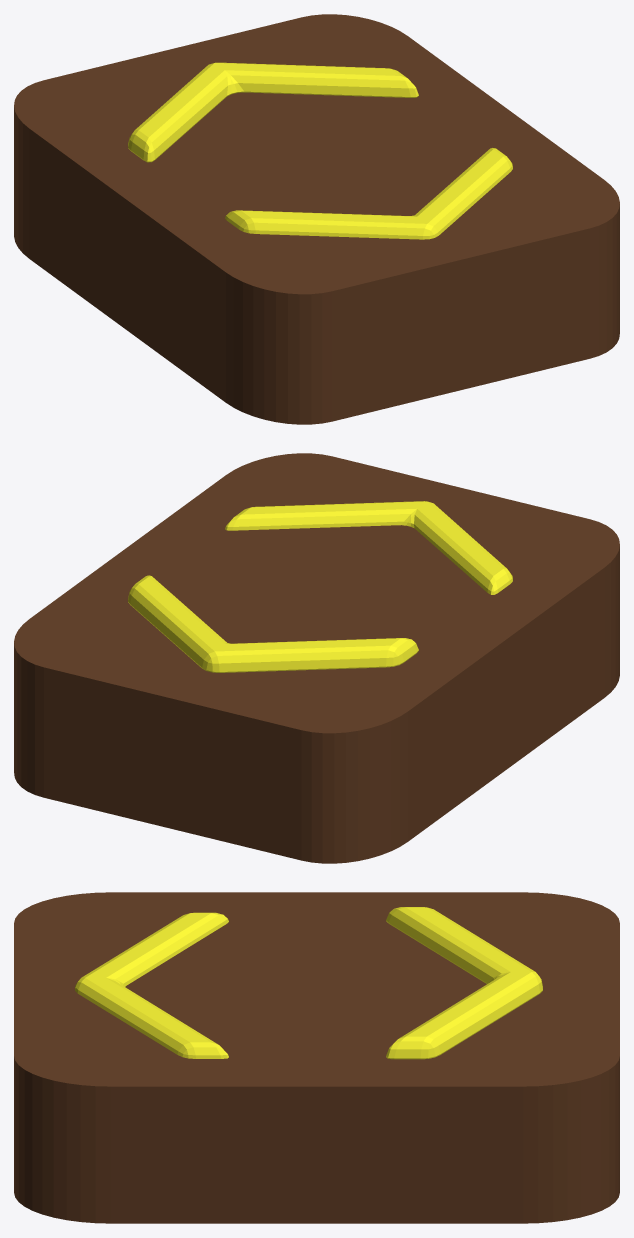
Rendered from bpm.glb.
3 renders of one model, top to bottom at view 1: azimuth 30°, elevation 25°; view 2: azimuth 150°, elevation 25°; view 3: azimuth 270°, elevation 25°, orthographic. The views are drawn at different scales.
Visible parts, largest first — view 1: Base, Left, Right; view 2: Base, Left, Right; view 3: Base, Left, Right.
Boxes of the visible parts, x1=… form: Base: x1=14, y1=14, x2=619, y2=424; Left: x1=128, y1=62, x2=418, y2=162; Right: x1=225, y1=148, x2=512, y2=239; Base: x1=14, y1=453, x2=619, y2=863; Left: x1=128, y1=575, x2=418, y2=672; Right: x1=225, y1=501, x2=512, y2=594; Base: x1=14, y1=892, x2=619, y2=1223; Left: x1=386, y1=907, x2=542, y2=1059; Right: x1=75, y1=912, x2=228, y2=1058.
Size of the model in its own units: 2 by 0.742 by 2.64.
